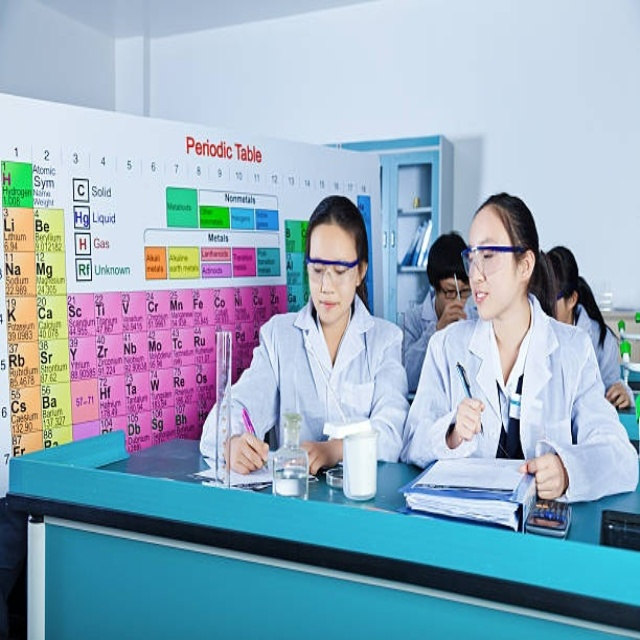Gafas: (458, 240, 526, 273), (304, 252, 360, 278), (438, 281, 466, 300)
Sin_guantes: (520, 450, 567, 501), (223, 429, 269, 475), (450, 394, 489, 446), (299, 434, 343, 479), (605, 381, 633, 411)
Sin_mascara: (471, 287, 495, 318), (314, 294, 342, 317)
